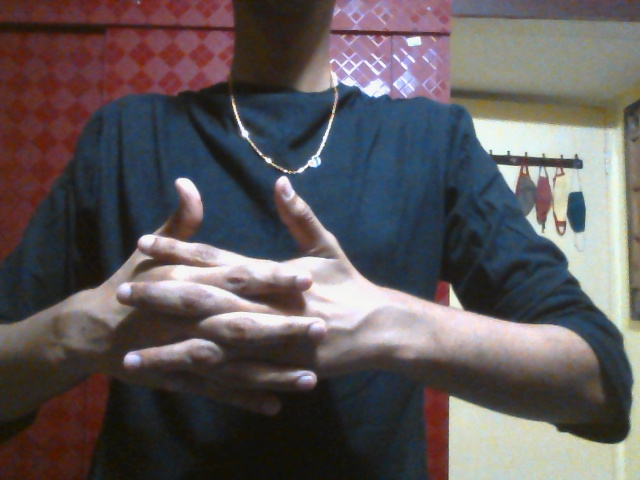W: (111, 174, 379, 420)
